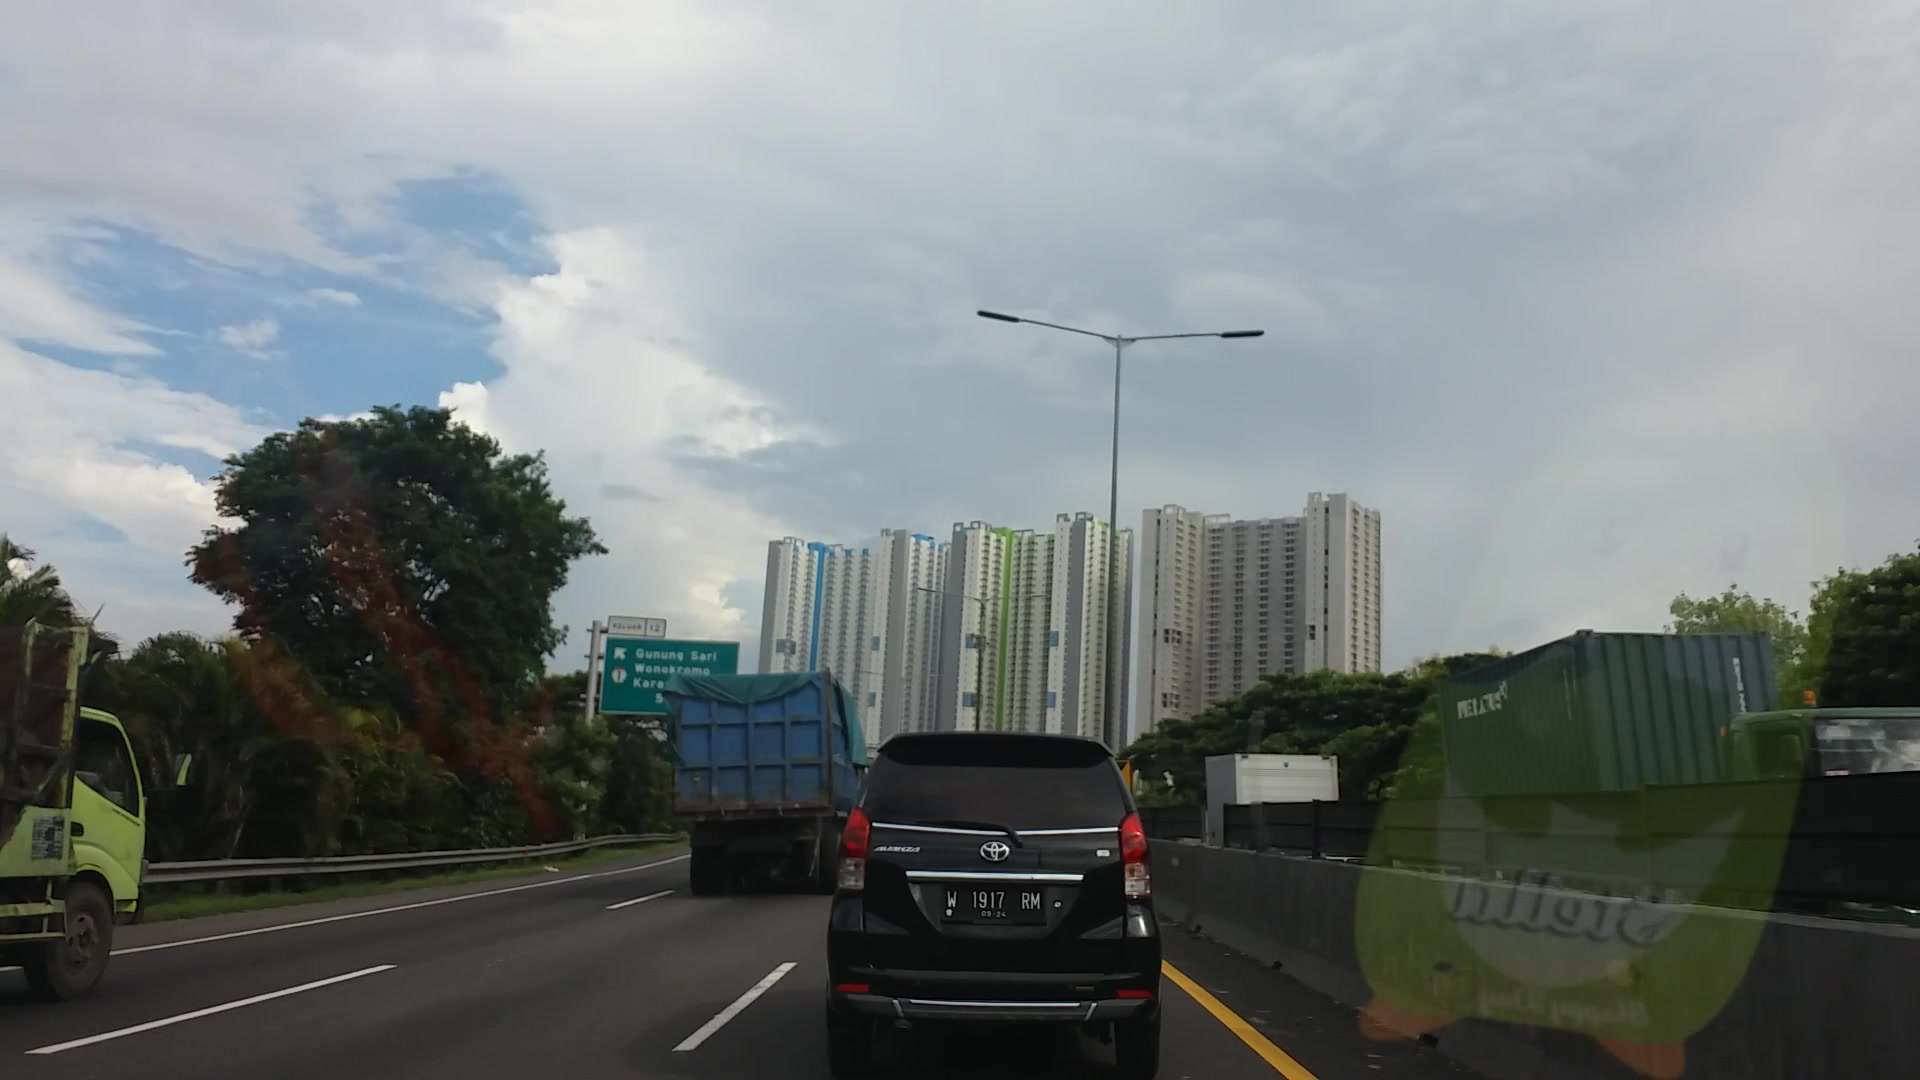plate_positive: (942, 884, 1043, 920)
